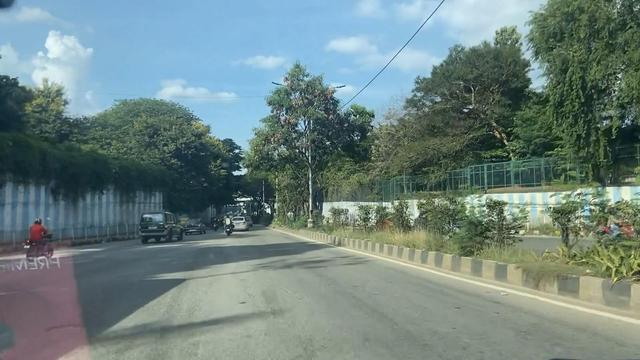LMV: (135, 215, 189, 244), (26, 219, 59, 260)
RoadDamages: (36, 317, 94, 348)
